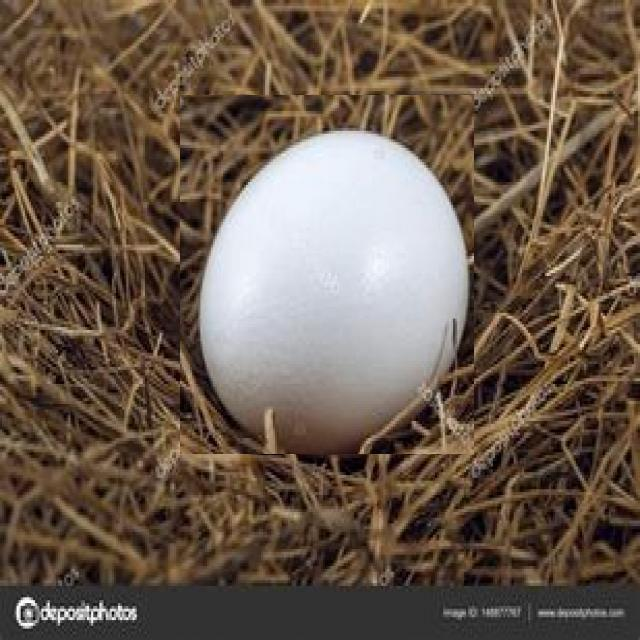Egg: (180, 95, 474, 454)
